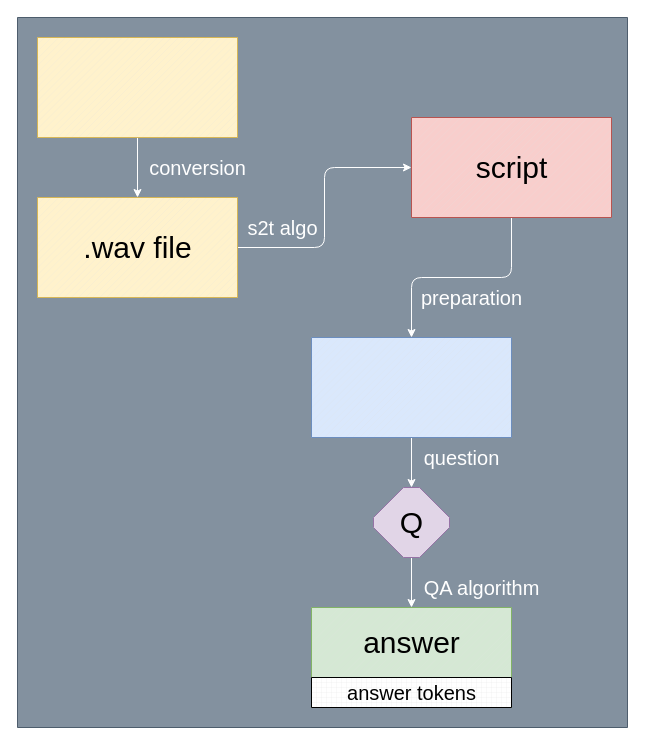
The diagram is 645 pixels wide and 745 high, and some of its shapes have lost their labels. Here are the shapes that lost their labels. From the top down, the box of each, then its label:
(36, 36, 238, 138): .mp4 file
(310, 336, 512, 438): context
